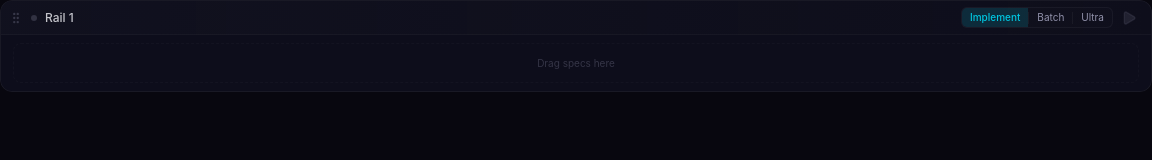
Scenario: RailRow › clicking label enters edit mode
This screenshot has width=1152, height=160.
Click the button "Rail 1" at (59, 18), box [45,10,74,26]
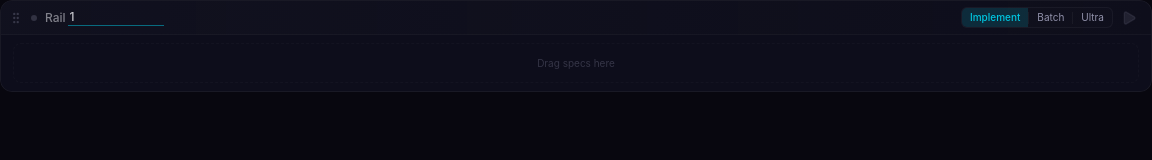
Check: the field is shown, box [68,9,164,26]
